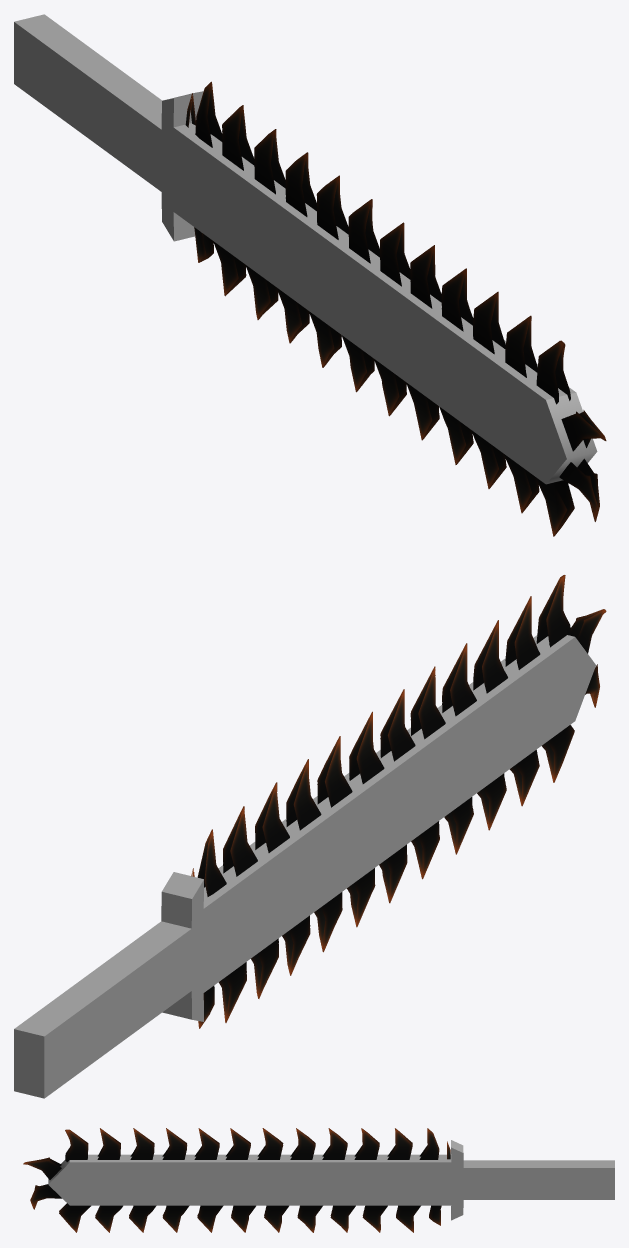
Rendered from ChainSword.fbx.
3 renders of one model, top to bottom at view 1: azimuth 30°, elevation 25°; view 2: azimuth 150°, elevation 25°; view 3: azimuth 270°, elevation 25°, orthographic. The views are drawn at different scales.
Parts seen in each view (by area): view 1: ChainSword, ChainSwordBlade; view 2: ChainSword, ChainSwordBlade; view 3: ChainSword, ChainSwordBlade.
Part boxes in pixels (x1,y1,x2,y2): ChainSword: (14, 14, 597, 484); ChainSwordBlade: (185, 81, 606, 536); ChainSword: (14, 635, 595, 1098); ChainSwordBlade: (191, 575, 606, 1028); ChainSword: (48, 1140, 614, 1220); ChainSwordBlade: (23, 1128, 450, 1232).
Size of the model in its own units: 5.13 by 33.44 by 171.
